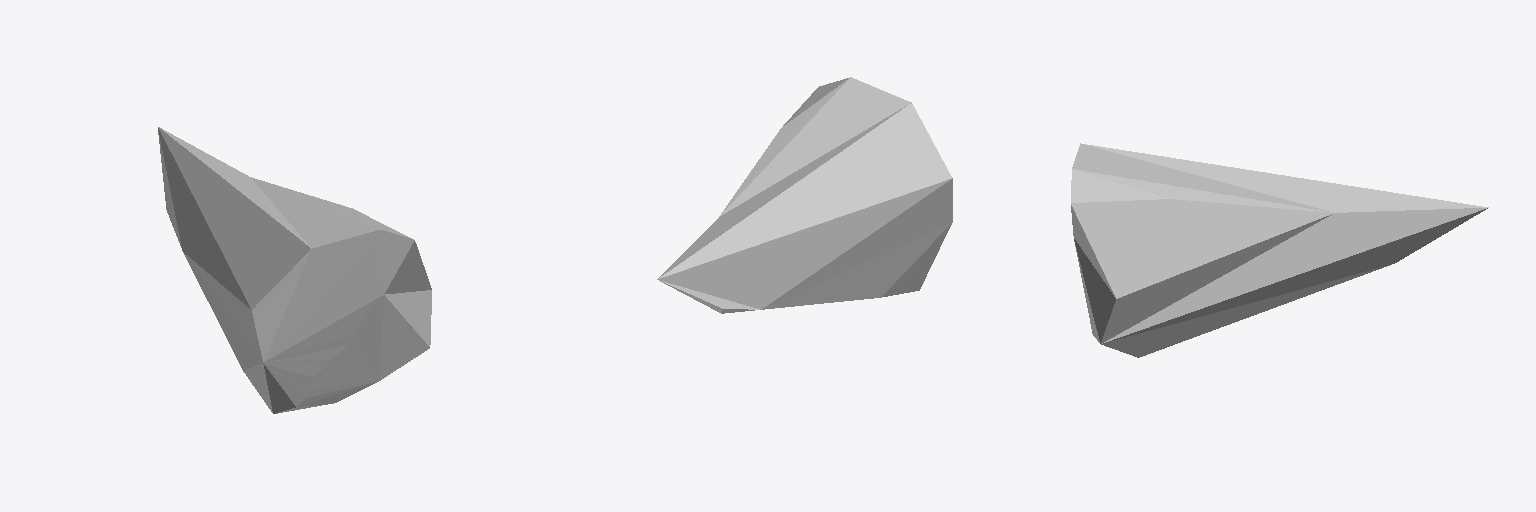
The model's file is BlueSuke_tail.obj.
3 renders of one model, left to right at view 1: azimuth 30°, elevation 25°; view 2: azimuth 150°, elevation 25°; view 3: azimuth 270°, elevation 25°, orthographic.
Visible parts, largest first — view 1: BlueSuke_tail BlueSuke:Mesh; view 2: BlueSuke_tail BlueSuke:Mesh; view 3: BlueSuke_tail BlueSuke:Mesh.
Part boxes in pixels (left/top/right/bottom): BlueSuke_tail BlueSuke:Mesh: left=158, top=127, right=431, bottom=413; BlueSuke_tail BlueSuke:Mesh: left=657, top=77, right=952, bottom=313; BlueSuke_tail BlueSuke:Mesh: left=1071, top=143, right=1488, bottom=357.
Bounding box in the file's own units: 0.3834 × 0.3785 × 0.7361.